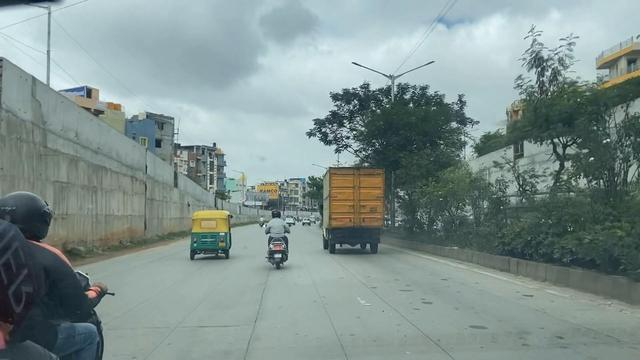HMV: (317, 161, 388, 265)
